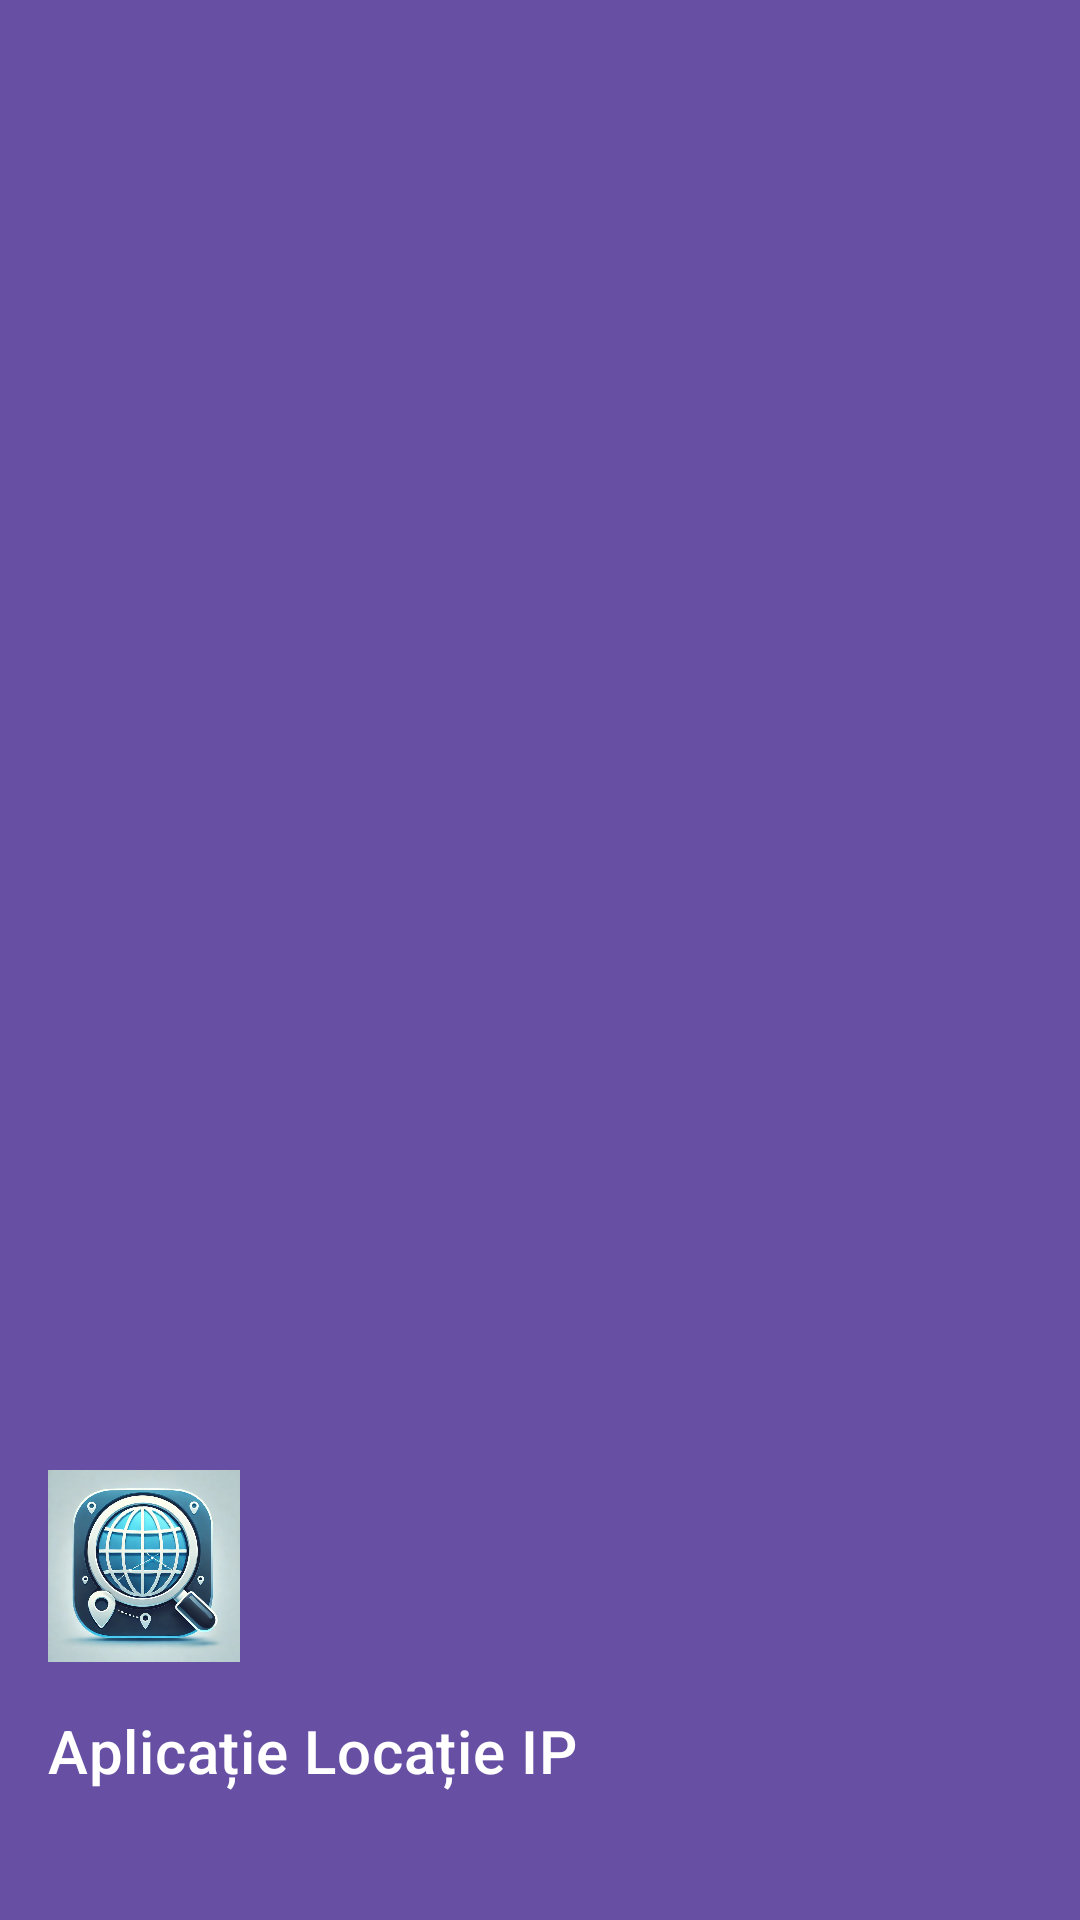

Icons on this 1080*1920 Android screen, each with the point to tap as point (x, y):
Icoană aplicație: point (144, 1566)
